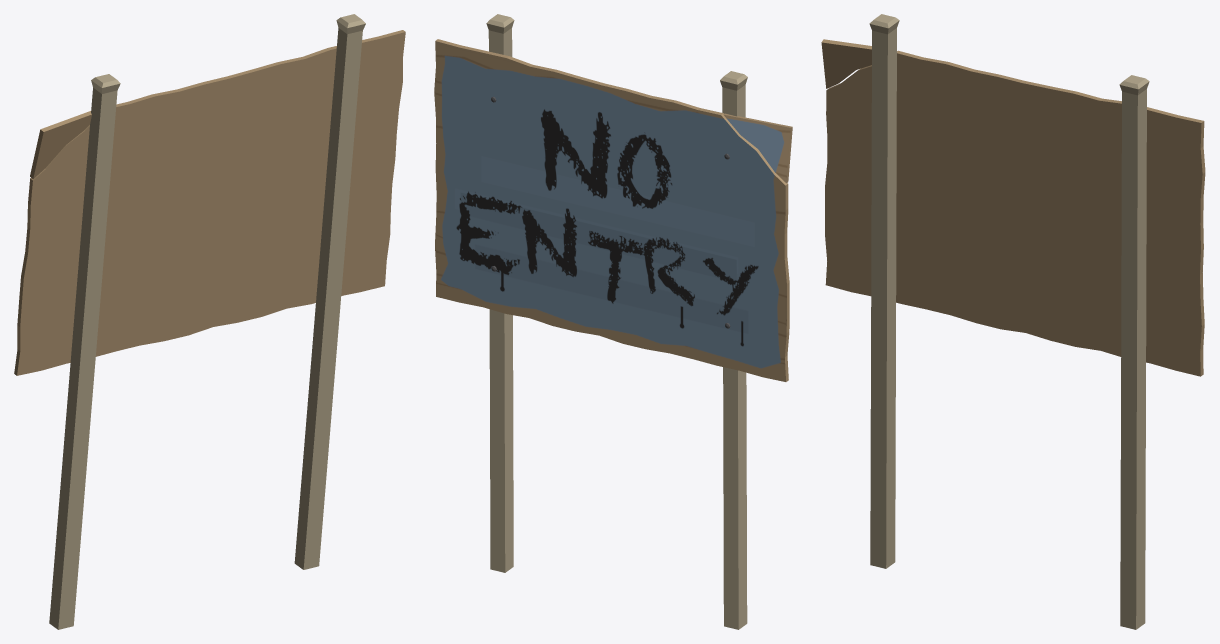
File: turn-back-sign-no-entry.glb
3 views of the same model, side by side, from view 1: azimuth 30°, elevation 25°; view 2: azimuth 150°, elevation 25°; view 3: azimuth 330°, elevation 25° (orthographic). The views are drawn at different scales.
Visible parts, largest first — view 1: TurnBackSign; view 2: TurnBackSign; view 3: TurnBackSign.
Part boxes in pixels (x1,y1,x2,y2): TurnBackSign: (14, 14, 405, 629); TurnBackSign: (434, 14, 792, 629); TurnBackSign: (821, 14, 1205, 629).
Bounding box in the file's own units: 0.9264 × 1.3 × 0.1323.
Materials: 4 (1 with a texture image).
